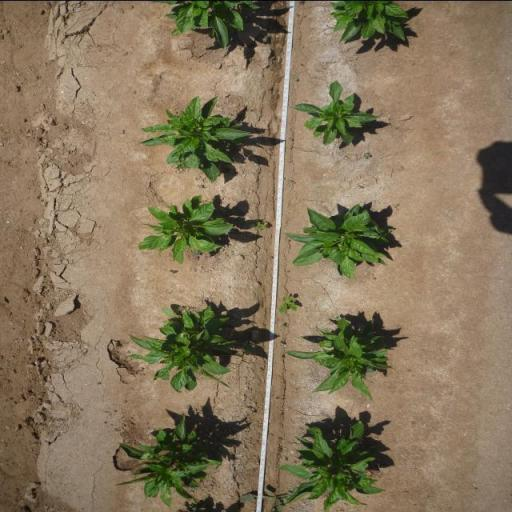plant: (127, 301, 241, 394), (136, 95, 252, 185), (112, 410, 222, 503), (285, 416, 386, 510), (285, 316, 395, 400), (282, 201, 396, 281), (136, 193, 236, 265), (294, 80, 384, 147), (152, 0, 264, 52), (327, 0, 410, 46)
weed: (236, 481, 286, 512), (278, 292, 299, 314), (242, 340, 256, 354), (254, 219, 270, 230), (362, 151, 372, 159), (167, 268, 179, 274), (192, 250, 202, 256), (196, 184, 204, 190), (277, 341, 285, 346), (359, 184, 365, 189), (292, 76, 299, 80), (177, 306, 182, 311), (288, 136, 294, 140)
